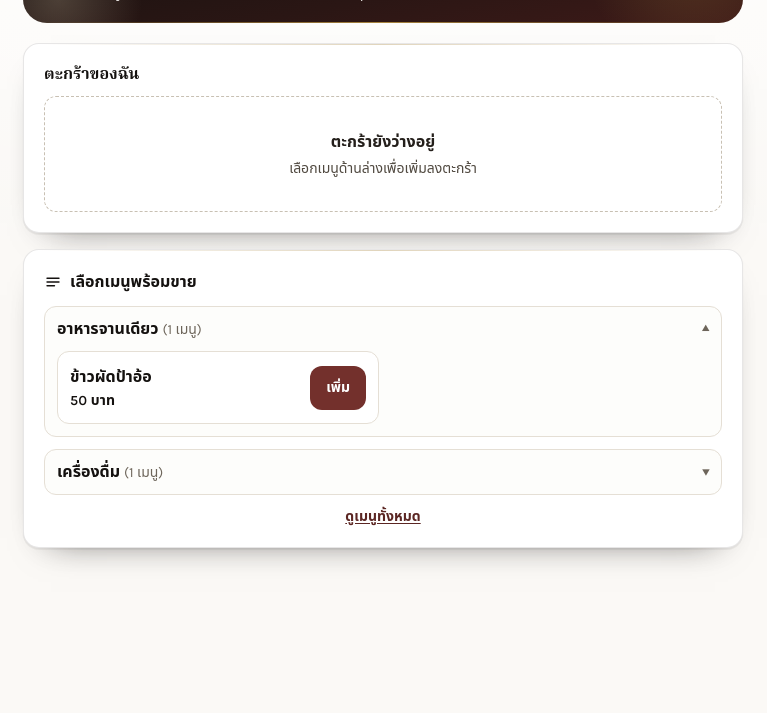
Test: หน้าตะกร้าและยืนยันคำสั่งซื้อ (Ticket 05) › ปุ่ม +/− บนรายการเมนูปรับจำนวนได้เลย และหมวดที่สองพับไว้ก่อน
The width and height of the screenshot is (767, 713).
Click the button with aria-label "เพิ่มข้าวผัดป้าอ้อลงตะกร้า" at (338, 388), box [310,366,366,410]
(page scrolled)
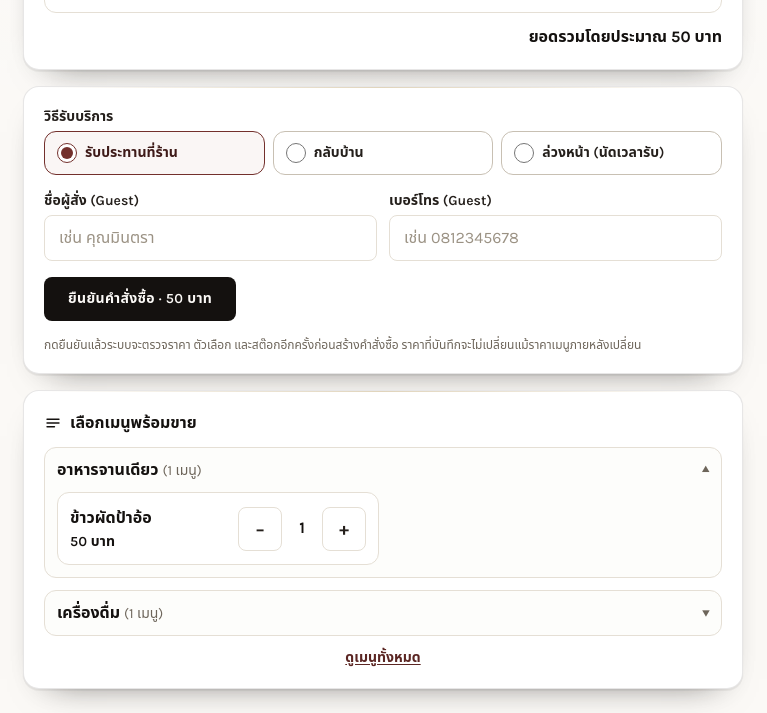
Click the button named "เพิ่มจำนวนข้าวผัดป้าอ้อ" at (344, 529), box [322,507,366,551]
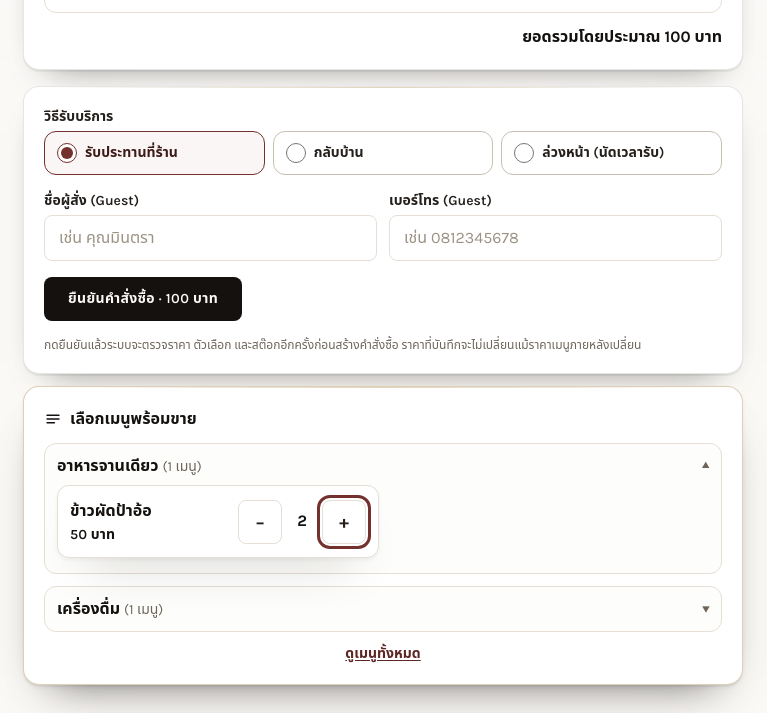
expect the element named "จำนวนข้าวผัดป้าอ้อในตะกร้า" shows "2": met, box [297,511,307,530]
Click the button named "ลดจำนวนข้าวผัดป้าอ้อ" at (260, 522), box [238,500,282,544]
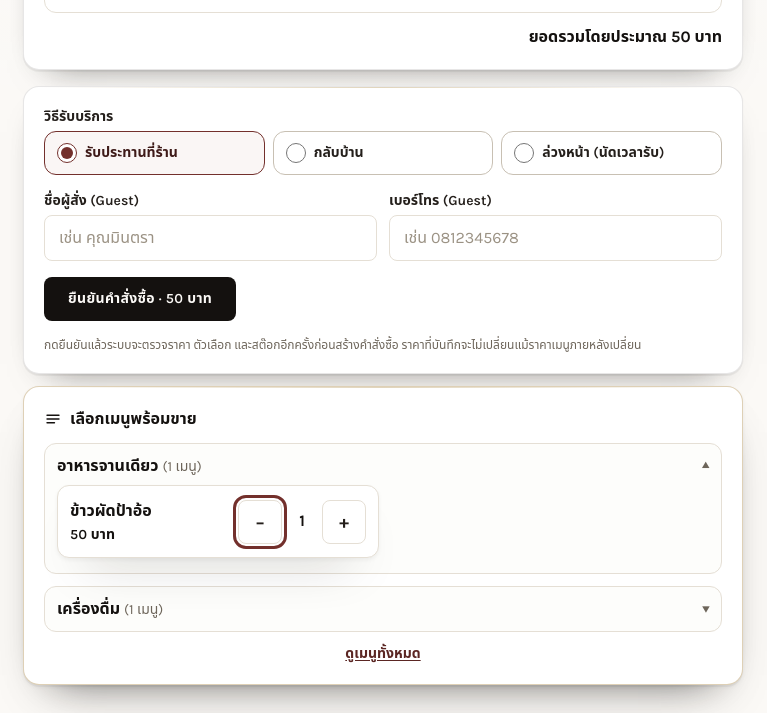
Click the button named "ลดจำนวนข้าวผัดป้าอ้อ" at (260, 522), box [238,500,282,544]
(page scrolled)
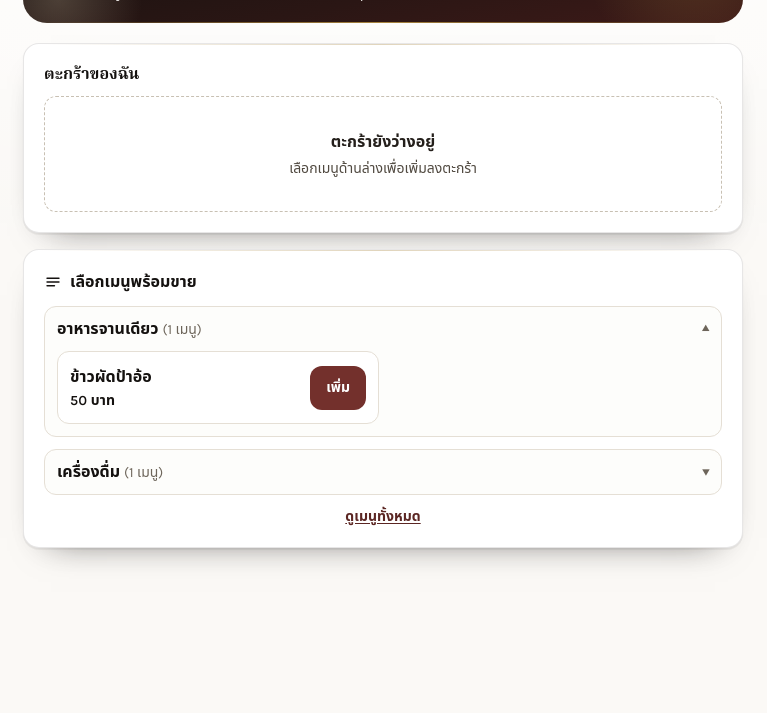
expect the button with aria-label "เพิ่มข้าวผัดป้าอ้อลงตะกร้า" is shown: met, box [310,366,366,410]
expect the element "จำนวนข้าวผัดป้าอ้อในตะกร้า" is gone: met
